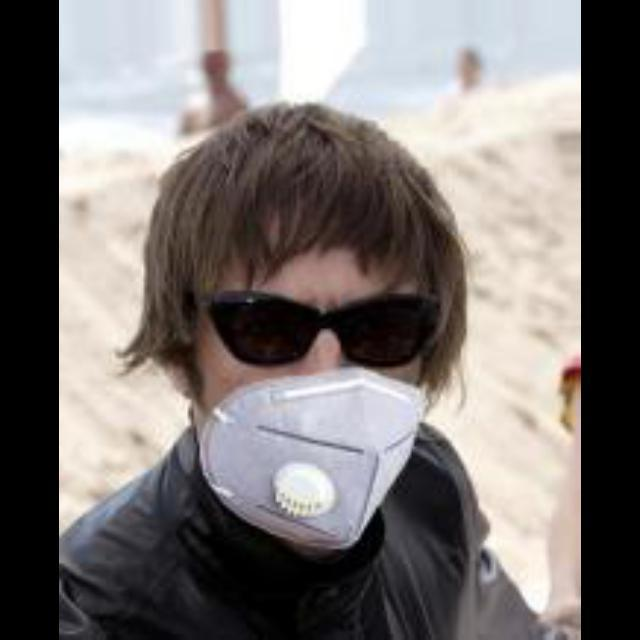suspicion: (114, 41, 530, 554)
